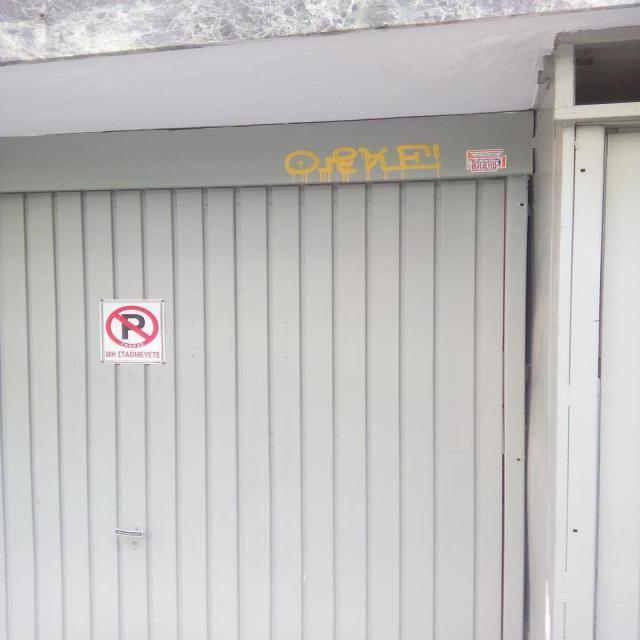nonspitting: (286, 143, 442, 183)
